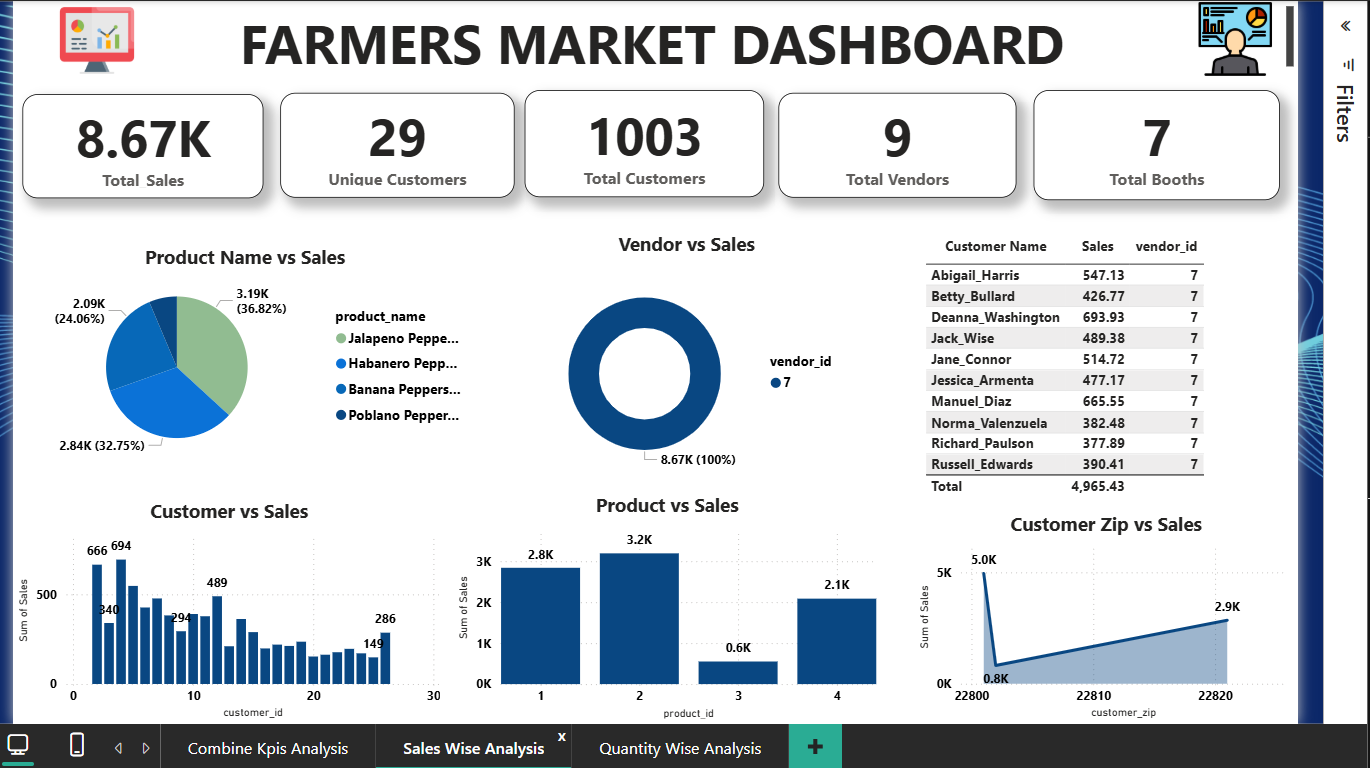

The page's visual inventory and layout, read from the dashboard file:
{"tool":"powerbi","page":{"name":"Sales Wise Analysis","canvas":[1280,720],"ordinal":1},"visuals":[{"type":"columnChart","title":"Customer vs Sales","fields":{"Category":["customer_purchases.customer_id"],"Y":["Sum(customer_purchases.Sales)"]},"box":[0,494.9,430.5,224.9],"z":0},{"type":"clusteredColumnChart","title":"Product vs Sales","fields":{"Category":["product.product_id"],"Y":["Sum(customer_purchases.Sales)"]},"box":[438.7,489.5,426.4,230.3],"z":1000},{"type":"pieChart","title":"Product Name vs Sales","fields":{"Category":["product.product_name"],"Y":["Sum(customer_purchases.Sales)"]},"box":[0,242.7,462,220.7],"z":2000},{"type":"donutChart","title":"Vendor vs Sales","fields":{"Category":["customer_purchases.vendor_id"],"Y":["Sum(customer_purchases.Sales)"]},"box":[499.1,229,344.1,260.5],"z":3000},{"type":"textbox","box":[0,0,1280.6,75.4],"z":4000},{"type":"image","box":[1153,0,127.5,75.4],"z":5000},{"type":"image","box":[43.9,0,78.1,78.1],"z":6000},{"type":"card","fields":{"Values":["customer_purchases.Total_Sales"]},"box":[9.1,92.2,240.3,103.9],"z":7000},{"type":"card","fields":{"Values":["Count(customer_purchases.customer_id)"]},"box":[266,91.9,233.1,104.2],"z":8000},{"type":"card","fields":{"Values":["CountNonNull(customer_purchases.customer_id)"]},"box":[510,89.1,238.6,106.9],"z":9000},{"type":"card","fields":{"Values":["Count(vendor.vendor_id)"]},"box":[762.3,91.9,237.2,104.2],"z":10000},{"type":"card","fields":{"Values":["Count(vendor_booth_assignments.booth_number)"]},"box":[1015.9,89.1,245.4,109.7],"z":11000},{"type":"tableEx","fields":{"Values":["customer.Customer_FUll_Name","Sum(customer_purchases.Sales)","customer_purchases.vendor_id"]},"box":[903.5,229,377,279.7],"z":12000},{"type":"areaChart","title":"Customer Zip vs Sales","fields":{"Category":["customer.customer_zip"],"Y":["Sum(customer_purchases.Sales)"]},"box":[896.7,508.7,383.9,211.1],"z":13000}]}

Visuals, with their boxes on the page's 1280x720 design canvas (x1, y1, x2, y2). These are canvas units, not pixel positions in the 1370x768 screenshot, which may show the page scaled, cropped or inside an application window:
"Customer vs Sales" columnChart: 0 495 430 720
"Product vs Sales" clusteredColumnChart: 439 490 865 720
"Product Name vs Sales" pieChart: 0 243 462 463
"Vendor vs Sales" donutChart: 499 229 843 490
textbox: 0 0 1281 75
image: 1153 0 1280 75
image: 44 0 122 78
card - customer_purchases.Total_Sales: 9 92 249 196
card - Count(customer_purchases.customer_id): 266 92 499 196
card - CountNonNull(customer_purchases.customer_id): 510 89 749 196
card - Count(vendor.vendor_id): 762 92 1000 196
card - Count(vendor_booth_assignments.booth_number): 1016 89 1261 199
tableEx - customer.Customer_FUll_Name x Sum(customer_purchases.Sales): 904 229 1280 509
"Customer Zip vs Sales" areaChart: 897 509 1281 720
